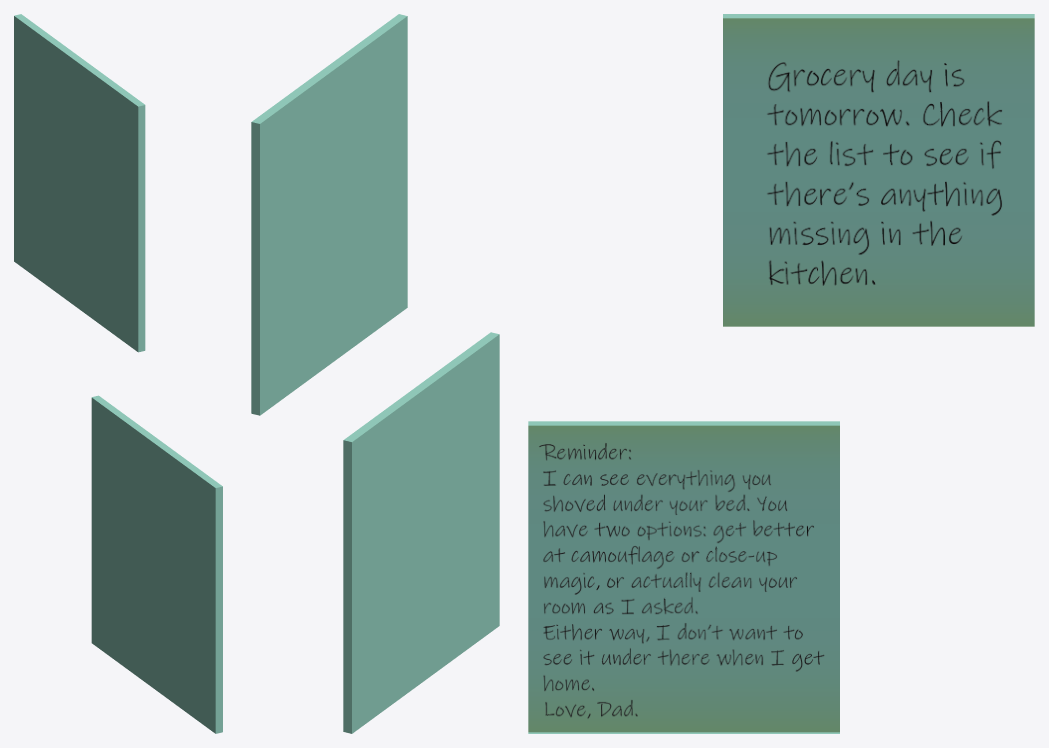
The model's file is DadReminders.fbx.
The picture shows the model from 3 angles, left to right: view 1: azimuth 30°, elevation 25°; view 2: azimuth 150°, elevation 25°; view 3: azimuth 270°, elevation 25°; orthographic projection. The views are drawn at different scales.
Parts seen in each view (by area): view 1: Dad.StickyNote.1.BedHint, Dad.StickyNote.2.GroceryReminder; view 2: Dad.StickyNote.1.BedHint, Dad.StickyNote.2.GroceryReminder; view 3: Dad.StickyNote.1.BedHint, Dad.StickyNote.2.GroceryReminder.
Part boxes in pixels (x1,y1,x2,y2): Dad.StickyNote.1.BedHint: [91, 395, 222, 733]; Dad.StickyNote.2.GroceryReminder: [14, 14, 145, 352]; Dad.StickyNote.1.BedHint: [343, 332, 499, 733]; Dad.StickyNote.2.GroceryReminder: [251, 14, 407, 415]; Dad.StickyNote.1.BedHint: [528, 421, 839, 733]; Dad.StickyNote.2.GroceryReminder: [723, 14, 1034, 326].
Bounding box in the file's own units: 1.54 × 116 × 74.54.
